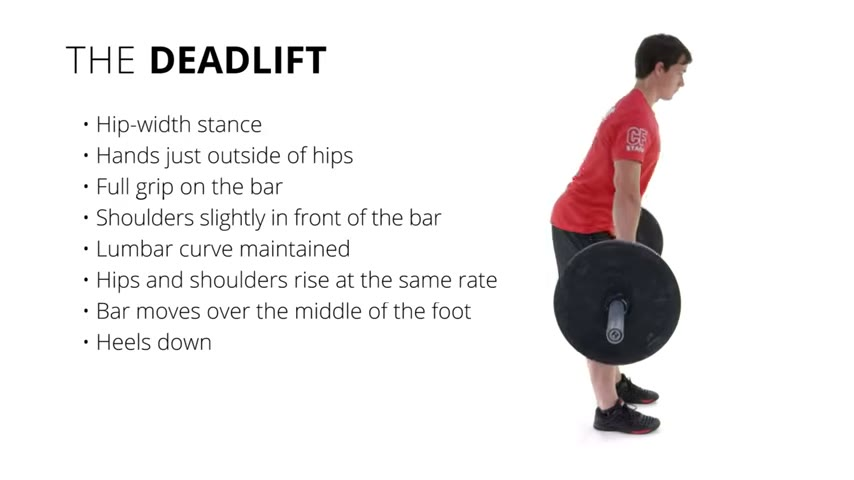barbell_plate_side: (558, 240, 596, 368), (650, 234, 684, 369), (553, 240, 588, 369)
